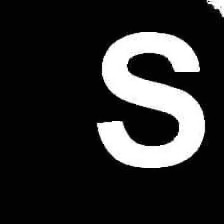LTR_S: (93, 21, 207, 170)
